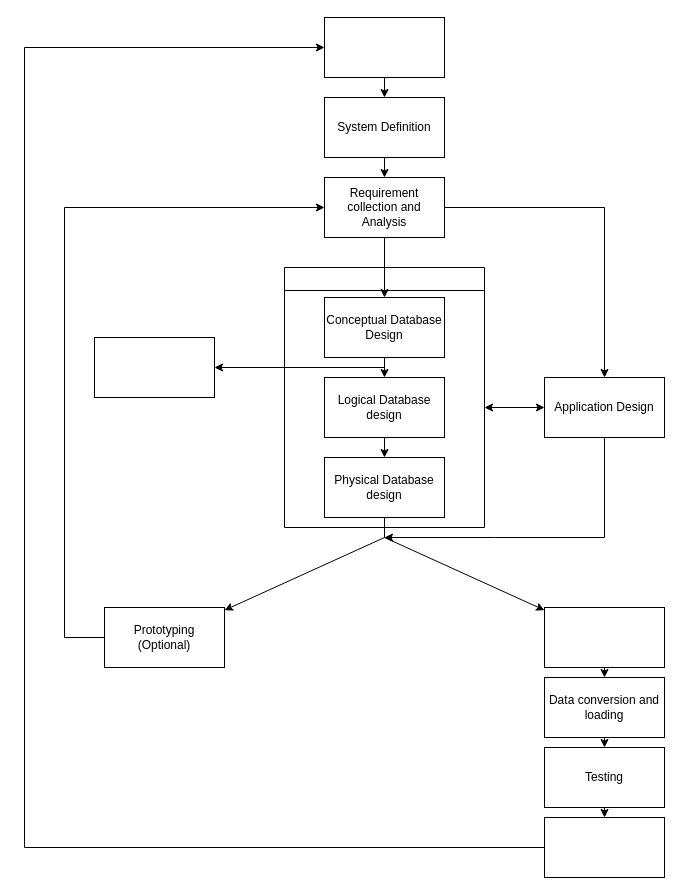
This 682x895 diagram has some shape labels left out. Each missing label, with the centre of its shape:
Database Design: point (384, 397)
Database planning: point (384, 47)
DBMS Selection (Optional): point (154, 367)
Implimentation: point (604, 637)
Operational Maintenance: point (604, 847)
